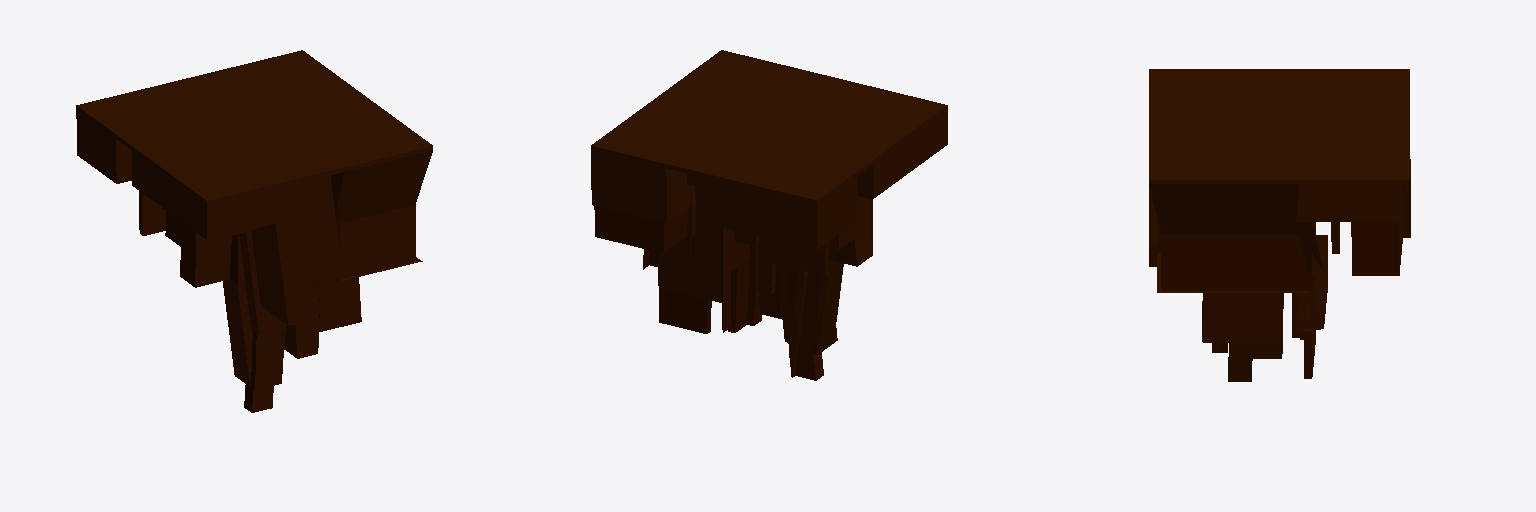
Rendered from ile.obj.
The picture shows the model from 3 angles: view 1: azimuth 30°, elevation 25°; view 2: azimuth 150°, elevation 25°; view 3: azimuth 270°, elevation 25°; orthographic projection.
Visible parts, largest first — view 1: Cube; view 2: Cube; view 3: Cube.
Boxes of the visible parts, box(x1,y1,x2,y2) form: Cube: box(76, 50, 432, 412); Cube: box(591, 50, 947, 380); Cube: box(1149, 69, 1410, 381).
Bounding box in the file's own units: 25.48 × 27.84 × 25.25.